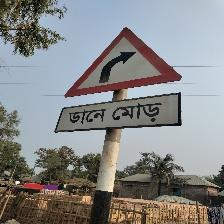Right-turn: (58, 27, 185, 133)
